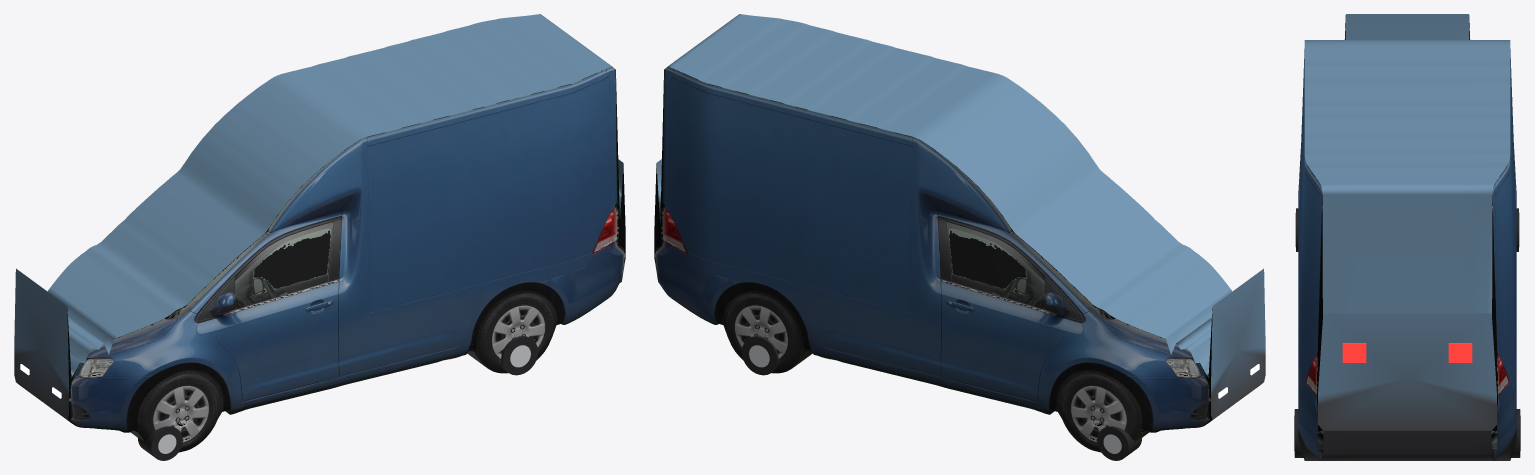
Rendered from delivery.glb.
The picture shows the model from 3 angles, left to right: view 1: azimuth 30°, elevation 25°; view 2: azimuth 150°, elevation 25°; view 3: azimuth 270°, elevation 25°; orthographic projection. The views are drawn at different scales.
Visible parts, largest first — view 1: delivery; view 2: delivery; view 3: delivery.
Boxes of the visible parts, left/top/right/bottom form: delivery: left=14, top=14, right=625, bottom=460; delivery: left=654, top=14, right=1265, bottom=460; delivery: left=1294, top=14, right=1520, bottom=460.
Size of the model in its own units: 5.63 by 2.69 by 1.68.
8 materials, 2 textured.
